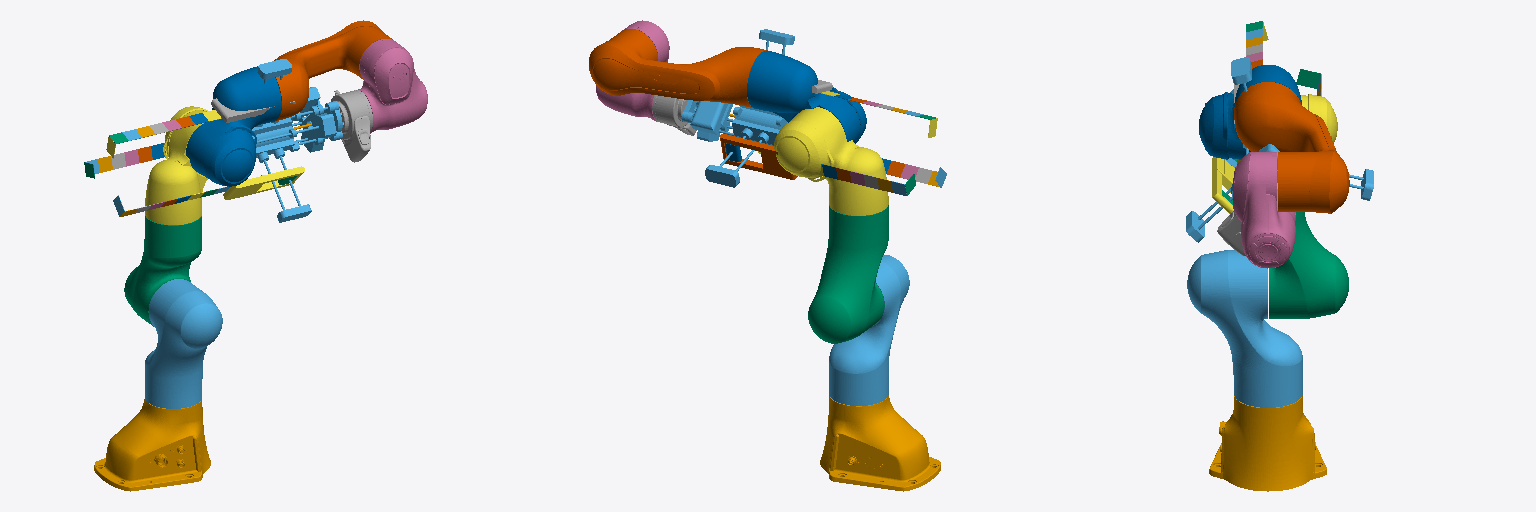
--- What the picture shows (computed from the rendered views, not written in the file) ---
3 views of the same robot in one strip: view 1: azimuth 30°, elevation 25°; view 2: azimuth 150°, elevation 25°; view 3: azimuth 270°, elevation 25° (orthographic).
Robot: panda_and_gripper — 45 links, 44 joints (34 revolute, 4 prismatic, 6 fixed); root link world; default pose: all joints at 0 but 4 set to mid-range because 0 is outside their limits (panda_joint4 = -1.57, finger_1_prismatic_joint = 0.0915, finger_2_prismatic_joint = 0.0915, finger_3_prismatic_joint = 0.0915).
Visible links, largest first — view 1: panda_link0, panda_link1, panda_link4, panda_link6, gripper_base_link, panda_link5, panda_link2, panda_link3, panda_link7, finger_1, finger_3; view 2: panda_link0, panda_link5, panda_link2, panda_link3, panda_link1, panda_link4, gripper_base_link, panda_link6, finger_2, panda_link7; view 3: panda_link1, panda_link5, panda_link0, panda_link2, panda_link6, panda_link4, gripper_base_link, finger_1, panda_link3, panda_link7.
Link boxes in pixels (x1,y1,x2,y2): panda_link0: (94,399,210,491); panda_link1: (145,279,222,408); panda_link4: (186,66,281,186); panda_link6: (358,39,427,133); gripper_base_link: (252,59,342,222); panda_link5: (274,20,392,121); panda_link2: (124,216,201,326); panda_link3: (145,106,207,224); panda_link7: (331,90,372,162); finger_1: (223,166,304,199); finger_3: (211,98,295,122); panda_link0: (820,395,940,491); panda_link5: (589,29,767,107); panda_link2: (808,205,888,343); panda_link3: (774,107,888,215); panda_link1: (829,255,909,405); panda_link4: (747,51,866,143); gripper_base_link: (681,29,794,187); panda_link6: (596,20,669,121); finger_2: (720,134,797,179); panda_link7: (652,95,696,135); panda_link1: (1187,250,1302,407); panda_link5: (1234,82,1349,213); panda_link0: (1209,395,1326,491); panda_link2: (1269,212,1348,318); panda_link6: (1233,152,1295,268); panda_link4: (1199,65,1301,159); gripper_base_link: (1186,57,1373,242); finger_1: (1212,157,1234,213); panda_link3: (1237,94,1337,163); panda_link7: (1217,183,1295,255).
Bounding box of the posed robot: 0.7022 × 0.301 × 0.8128 m (x, y, z).
Meshes: 12 distinct files referenced, 16 mesh visuals loaded (12 binary STL).

The robot description file, URDF, robot "panda_and_gripper":
<?xml version="1.0" ?>
<!-- =================================================================================== -->
<!-- |    This document was autogenerated by xacro from panda_and_gripper.urdf.xacro   | -->
<!-- |    EDITING THIS FILE BY HAND IS NOT RECOMMENDED                                 | -->
<!-- =================================================================================== -->
<robot name="panda_and_gripper">
  <!-- <link name="world" />
    <xacro:unless value="${not connected_to}">
      <joint name="virtual_joint" type="fixed">
        <parent link="${connected_to}"/>
        <child link="${arm_id}_link0"/>
        <origin rpy="${rpy}" xyz="${xyz}"/>
        <dynamics damping="1.0"/>
      </joint>
    </xacro:unless> -->
  <!-- PARAMETERS TO SET BY HAND -->
  <!-- END OF PARAMETERS TO SET BY HAND -->
  <!-- original working mesh links -->
  <!--    <xacro:arm_link number="0" visual_mesh="package://${mesh_folder}/visual/link0.dae"-->
  <!--      collision_mesh="package://${mesh_folder}/collision/link0.stl" mass="3.06"/>-->
  <!--    <xacro:arm_link number="1" visual_mesh="package://${mesh_folder}/visual/link1.dae"-->
  <!--      collision_mesh="package://${mesh_folder}/collision/link1.stl" mass="2.34"/>-->
  <!--    <xacro:arm_link number="2" visual_mesh="package://${mesh_folder}/visual/link2.dae"-->
  <!--      collision_mesh="package://${mesh_folder}/collision/link2.stl" mass="2.36"/>-->
  <!--    <xacro:arm_link number="3" visual_mesh="package://${mesh_folder}/visual/link3.dae"-->
  <!--      collision_mesh="package://${mesh_folder}/collision/link3.stl" mass="2.38"/>-->
  <!--    <xacro:arm_link number="4" visual_mesh="package://${mesh_folder}/visual/link4.dae"-->
  <!--      collision_mesh="package://${mesh_folder}/collision/link4.stl" mass="2.43"/>-->
  <!--    <xacro:arm_link number="5" visual_mesh="package://${mesh_folder}/visual/link5.dae"-->
  <!--      collision_mesh="package://${mesh_folder}/collision/link5.stl" mass="3.5"/>-->
  <!--    <xacro:arm_link number="6" visual_mesh="package://${mesh_folder}/visual/link6.dae"-->
  <!--      collision_mesh="package://${mesh_folder}/collision/link6.stl" mass="1.47"/>-->
  <!--    <xacro:arm_link number="7" visual_mesh="package://${mesh_folder}/visual/link7.dae"-->
  <!--      collision_mesh="package://${mesh_folder}/collision/link7.stl" mass="0.45"/>-->
  <!--     <xacro:arm_link number="8"/>-->
  <link name="panda_link0">
    <visual>
      <geometry>
        <mesh filename="package://gripper_description/meshes_panda/panda visual link0.stl"/>
      </geometry>
    </visual>
    <collision>
      <geometry>
        <mesh filename="package://gripper_description/meshes_panda/panda collision link0.stl"/>
      </geometry>
    </collision>
    <inertial>
      <origin rpy="0 0 0" xyz="0 0 0"/>
      <mass value="3.06"/>
      <inertia ixx="0.3" ixy="0.0" ixz="0.0" iyy="0.3" iyz="0.0" izz="0.3"/>
    </inertial>
  </link>
  <link name="panda_link1">
    <visual>
      <geometry>
        <mesh filename="package://gripper_description/meshes_panda/panda visual link1.stl"/>
      </geometry>
    </visual>
    <collision>
      <geometry>
        <mesh filename="package://gripper_description/meshes_panda/panda collision link1.stl"/>
      </geometry>
    </collision>
    <inertial>
      <origin rpy="0 0 0" xyz="0 0 0"/>
      <mass value="2.34"/>
      <inertia ixx="7.0337e-01" ixy="-1.3900e-04" ixz="6.7720e-03" iyy="7.0661e-01" iyz="1.9169e-02" izz="9.1170e-03"/>
    </inertial>
  </link>
  <link name="panda_link2">
    <visual>
      <geometry>
        <mesh filename="package://gripper_description/meshes_panda/panda visual link2.stl"/>
      </geometry>
    </visual>
    <collision>
      <geometry>
        <mesh filename="package://gripper_description/meshes_panda/panda collision link2.stl"/>
      </geometry>
    </collision>
    <inertial>
      <origin rpy="0 0 0" xyz="0 0 0"/>
      <mass value="2.36"/>
      <inertia ixx="7.9620e-03" ixy="-3.9250e-03" ixz="1.0254e-02" iyy="2.8110e-02" iyz="7.0400e-04" izz="2.5995e-02"/>
    </inertial>
  </link>
  <link name="panda_link3">
    <visual>
      <geometry>
        <mesh filename="package://gripper_description/meshes_panda/panda visual link3.stl"/>
      </geometry>
    </visual>
    <collision>
      <geometry>
        <mesh filename="package://gripper_description/meshes_panda/panda collision link3.stl"/>
      </geometry>
    </collision>
    <inertial>
      <origin rpy="0 0 0" xyz="0 0 0"/>
      <mass value="2.38"/>
      <inertia ixx="3.7242e-02" ixy="-4.7610e-03" ixz="-1.1396e-02" iyy="3.6155e-02" iyz="-1.2805e-02" izz="1.0830e-02"/>
    </inertial>
  </link>
  <link name="panda_link4">
    <visual>
      <geometry>
        <mesh filename="package://gripper_description/meshes_panda/panda visual link4.stl"/>
      </geometry>
    </visual>
    <collision>
      <geometry>
        <mesh filename="package://gripper_description/meshes_panda/panda collision link4.stl"/>
      </geometry>
    </collision>
    <inertial>
      <origin rpy="0 0 0" xyz="0 0 0"/>
      <mass value="2.43"/>
      <inertia ixx="2.5853e-02" ixy="7.7960e-03" ixz="-1.3320e-03" iyy="1.9552e-02" iyz="8.6410e-03" izz="2.8323e-02"/>
    </inertial>
  </link>
  <link name="panda_link5">
    <visual>
      <geometry>
        <mesh filename="package://gripper_description/meshes_panda/panda visual link5.stl"/>
      </geometry>
    </visual>
    <collision>
      <geometry>
        <mesh filename="package://gripper_description/meshes_panda/panda collision link5.stl"/>
      </geometry>
    </collision>
    <inertial>
      <origin rpy="0 0 0" xyz="0 0 0"/>
      <mass value="3.5"/>
      <inertia ixx="3.5549e-02" ixy="-2.1170e-03" ixz="-4.0370e-03" iyy="2.9474e-02" iyz="2.2900e-04" izz="8.6270e-03"/>
    </inertial>
  </link>
  <link name="panda_link6">
    <visual>
      <geometry>
        <mesh filename="package://gripper_description/meshes_panda/panda visual link6.stl"/>
      </geometry>
    </visual>
    <collision>
      <geometry>
        <mesh filename="package://gripper_description/meshes_panda/panda collision link6.stl"/>
      </geometry>
    </collision>
    <inertial>
      <origin rpy="0 0 0" xyz="0 0 0"/>
      <mass value="1.47"/>
      <inertia ixx="1.9640e-03" ixy="1.0900e-04" ixz="-1.1580e-03" iyy="4.3540e-03" iyz="3.4100e-04" izz="5.4330e-03"/>
    </inertial>
  </link>
  <link name="panda_link7">
    <visual>
      <geometry>
        <mesh filename="package://gripper_description/meshes_panda/panda visual link7.stl"/>
      </geometry>
    </visual>
    <collision>
      <geometry>
        <mesh filename="package://gripper_description/meshes_panda/panda collision link7.stl"/>
      </geometry>
    </collision>
    <inertial>
      <origin rpy="0 0 0" xyz="0 0 0"/>
      <mass value="0.45"/>
      <inertia ixx="1.2516e-02" ixy="-4.2800e-04" ixz="-1.1960e-03" iyy="1.0027e-02" iyz="-7.4100e-04" izz="4.8150e-03"/>
    </inertial>
  </link>
  <link name="panda_link8">
    <inertial>
      <origin rpy="0 0 0" xyz="0 0 0"/>
      <mass value="0.0"/>
      <inertia ixx="1e-4" ixy="0.0" ixz="0.0" iyy="1e-4" iyz="0.0" izz="1e-4"/>
    </inertial>
  </link>
  <!-- joint6 limit lower = -0.0175 -->
  <joint name="panda_joint1" type="revolute">
    <safety_controller k_position="100.0" k_velocity="40.0" soft_lower_limit="-2.8973" soft_upper_limit="2.8973"/>
    <origin rpy="0 0 0" xyz="0 0 0.333"/>
    <parent link="panda_link0"/>
    <child link="panda_link1"/>
    <limit effort="87" lower="-2.8973" upper="2.8973" velocity="2.175"/>
    <axis xyz="0 0 1"/>
    <dynamics damping="1.0" friction="0.1"/>
  </joint>
  <joint name="panda_joint2" type="revolute">
    <safety_controller k_position="100.0" k_velocity="40.0" soft_lower_limit="-1.7628" soft_upper_limit="1.7628"/>
    <origin rpy="-1.5707963267948966 0 0" xyz="0 0 0"/>
    <parent link="panda_link1"/>
    <child link="panda_link2"/>
    <limit effort="87" lower="-1.7628" upper="1.7628" velocity="2.175"/>
    <axis xyz="0 0 1"/>
    <dynamics damping="1.0" friction="0.1"/>
  </joint>
  <joint name="panda_joint3" type="revolute">
    <safety_controller k_position="100.0" k_velocity="40.0" soft_lower_limit="-2.8973" soft_upper_limit="2.8973"/>
    <origin rpy="1.5707963267948966 0 0" xyz="0 -0.316 0"/>
    <parent link="panda_link2"/>
    <child link="panda_link3"/>
    <limit effort="87" lower="-2.8973" upper="2.8973" velocity="2.175"/>
    <axis xyz="0 0 1"/>
    <dynamics damping="1.0" friction="0.1"/>
  </joint>
  <joint name="panda_joint4" type="revolute">
    <safety_controller k_position="100.0" k_velocity="40.0" soft_lower_limit="-3.0718" soft_upper_limit="-0.0698"/>
    <origin rpy="1.5707963267948966 0 0" xyz="0.0825 0 0"/>
    <parent link="panda_link3"/>
    <child link="panda_link4"/>
    <limit effort="87" lower="-3.0718" upper="-0.0698" velocity="2.175"/>
    <axis xyz="0 0 1"/>
    <dynamics damping="1.0" friction="0.1"/>
  </joint>
  <joint name="panda_joint5" type="revolute">
    <safety_controller k_position="100.0" k_velocity="40.0" soft_lower_limit="-2.8973" soft_upper_limit="2.8973"/>
    <origin rpy="-1.5707963267948966 0 0" xyz="-0.0825 0.384 0"/>
    <parent link="panda_link4"/>
    <child link="panda_link5"/>
    <limit effort="12" lower="-2.8973" upper="2.8973" velocity="2.61"/>
    <axis xyz="0 0 1"/>
    <dynamics damping="1.0" friction="0.1"/>
  </joint>
  <joint name="panda_joint6" type="revolute">
    <safety_controller k_position="100.0" k_velocity="40.0" soft_lower_limit="-0.0175" soft_upper_limit="3.7525"/>
    <origin rpy="1.5707963267948966 0 0" xyz="0 0 0"/>
    <parent link="panda_link5"/>
    <child link="panda_link6"/>
    <limit effort="12" lower="-0.0175" upper="3.7525" velocity="2.61"/>
    <axis xyz="0 0 1"/>
    <dynamics damping="1.0" friction="0.1"/>
  </joint>
  <joint name="panda_joint7" type="revolute">
    <safety_controller k_position="100.0" k_velocity="40.0" soft_lower_limit="-2.8973" soft_upper_limit="2.8973"/>
    <origin rpy="1.5707963267948966 0 0" xyz="0.088 0 0"/>
    <parent link="panda_link6"/>
    <child link="panda_link7"/>
    <limit effort="12" lower="-2.8973" upper="2.8973" velocity="2.61"/>
    <axis xyz="0 0 1"/>
    <dynamics damping="1.0" friction="0.1"/>
  </joint>
  <joint name="panda_joint8" type="fixed">
    <origin rpy="0 0 0" xyz="0 0 0.107"/>
    <parent link="panda_link7"/>
    <child link="panda_link8"/>
    <axis xyz="0 0 0"/>
    <dynamics damping="1.0" friction="0.1"/>
  </joint>
  <gazebo reference="panda_link0">
    <material>Gazebo/White</material>
    <mu1>0.2</mu1>
    <mu2>0.2</mu2>
  </gazebo>
  <gazebo reference="panda_link1">
    <material>Gazebo/White</material>
    <mu1>0.2</mu1>
    <mu2>0.2</mu2>
  </gazebo>
  <gazebo reference="panda_link2">
    <material>Gazebo/White</material>
    <mu1>0.2</mu1>
    <mu2>0.2</mu2>
  </gazebo>
  <gazebo reference="panda_link3">
    <material>Gazebo/White</material>
    <mu1>0.2</mu1>
    <mu2>0.2</mu2>
  </gazebo>
  <gazebo reference="panda_link4">
    <material>Gazebo/White</material>
    <mu1>0.2</mu1>
    <mu2>0.2</mu2>
  </gazebo>
  <gazebo reference="panda_link5">
    <material>Gazebo/White</material>
    <mu1>0.2</mu1>
    <mu2>0.2</mu2>
  </gazebo>
  <gazebo reference="panda_link6">
    <material>Gazebo/White</material>
    <mu1>0.2</mu1>
    <mu2>0.2</mu2>
  </gazebo>
  <gazebo reference="gripper_base_link">
    <material>Gazebo/Grey</material>
    <mu1>0.2</mu1>
    <mu2>0.2</mu2>
  </gazebo>
  <gazebo reference="finger_1_intermediate">
    <material>Gazebo/Grey</material>
    <mu1>0.2</mu1>
    <mu2>0.2</mu2>
  </gazebo>
  <gazebo reference="finger_1">
    <material>Gazebo/Grey</material>
    <mu1>0.2</mu1>
    <mu2>0.2</mu2>
  </gazebo>
  <gazebo reference="finger_2_intermediate">
    <material>Gazebo/Grey</material>
    <mu1>0.2</mu1>
    <mu2>0.2</mu2>
  </gazebo>
  <gazebo reference="finger_2">
    <material>Gazebo/Grey</material>
    <mu1>0.2</mu1>
    <mu2>0.2</mu2>
  </gazebo>
  <gazebo reference="finger_3_intermediate">
    <material>Gazebo/Grey</material>
    <mu1>0.2</mu1>
    <mu2>0.2</mu2>
  </gazebo>
  <gazebo reference="finger_3">
    <material>Gazebo/Grey</material>
    <mu1>0.2</mu1>
    <mu2>0.2</mu2>
  </gazebo>
  <gazebo reference="palm">
    <material>Gazebo/Grey</material>
    <mu1>0.2</mu1>
    <mu2>0.2</mu2>
  </gazebo>
  <transmission name="panda_tran_1">
    <type>transmission_interface/SimpleTransmission</type>
    <joint name="panda_joint1">
      <!-- <hardwareInterface>hardware_interface/EffortJointInterface</hardwareInterface> -->
      <hardwareInterface>hardware_interface/PositionJointInterface</hardwareInterface>
    </joint>
    <actuator name="panda_motor_1">
      <!-- <hardwareInterface>hardware_interface/EffortJointInterface</hardwareInterface> -->
      <hardwareInterface>hardware_interface/PositionJointInterface</hardwareInterface>
      <mechanicalReduction>1</mechanicalReduction>
    </actuator>
  </transmission>
  <transmission name="panda_tran_2">
    <type>transmission_interface/SimpleTransmission</type>
    <joint name="panda_joint2">
      <!-- <hardwareInterface>hardware_interface/EffortJointInterface</hardwareInterface> -->
      <hardwareInterface>hardware_interface/PositionJointInterface</hardwareInterface>
    </joint>
    <actuator name="panda_motor_2">
      <!-- <hardwareInterface>hardware_interface/EffortJointInterface</hardwareInterface> -->
      <hardwareInterface>hardware_interface/PositionJointInterface</hardwareInterface>
      <mechanicalReduction>1</mechanicalReduction>
    </actuator>
  </transmission>
  <transmission name="panda_tran_3">
    <type>transmission_interface/SimpleTransmission</type>
    <joint name="panda_joint3">
      <!-- <hardwareInterface>hardware_interface/EffortJointInterface</hardwareInterface> -->
      <hardwareInterface>hardware_interface/PositionJointInterface</hardwareInterface>
    </joint>
    <actuator name="panda_motor_3">
      <!-- <hardwareInterface>hardware_interface/EffortJointInterface</hardwareInterface> -->
      <hardwareInterface>hardware_interface/PositionJointInterface</hardwareInterface>
      <mechanicalReduction>1</mechanicalReduction>
    </actuator>
  </transmission>
  <transmission name="panda_tran_4">
    <type>transmission_interface/SimpleTransmission</type>
    <joint name="panda_joint4">
      <!-- <hardwareInterface>hardware_interface/EffortJointInterface</hardwareInterface> -->
      <hardwareInterface>hardware_interface/PositionJointInterface</hardwareInterface>
    </joint>
    <actuator name="panda_motor_4">
      <!-- <hardwareInterface>hardware_interface/EffortJointInterface</hardwareInterface> -->
      <hardwareInterface>hardware_interface/PositionJointInterface</hardwareInterface>
      <mechanicalReduction>1</mechanicalReduction>
    </actuator>
  </transmission>
  <transmission name="panda_tran_5">
    <type>transmission_interface/SimpleTransmission</type>
    <joint name="panda_joint5">
      <!-- <hardwareInterface>hardware_interface/EffortJointInterface</hardwareInterface> -->
      <hardwareInterface>hardware_interface/PositionJointInterface</hardwareInterface>
    </joint>
    <actuator name="panda_motor_5">
      <!-- <hardwareInterface>hardware_interface/EffortJointInterface</hardwareInterface> -->
      <hardwareInterface>hardware_interface/PositionJointInterface</hardwareInterface>
      <mechanicalReduction>1</mechanicalReduction>
    </actuator>
  </transmission>
  <transmission name="panda_tran_6">
    <type>transmission_interface/SimpleTransmission</type>
    <joint name="panda_joint6">
      <!-- <hardwareInterface>hardware_interface/EffortJointInterface</hardwareInterface> -->
      <hardwareInterface>hardware_interface/PositionJointInterface</hardwareInterface>
    </joint>
    <actuator name="panda_motor_6">
      <!-- <hardwareInterface>hardware_interface/EffortJointInterface</hardwareInterface> -->
      <hardwareInterface>hardware_interface/PositionJointInterface</hardwareInterface>
      <mechanicalReduction>1</mechanicalReduction>
    </actuator>
  </transmission>
  <transmission name="panda_tran_7">
    <type>transmission_interface/SimpleTransmission</type>
    <joint name="panda_joint7">
      <!-- <hardwareInterface>hardware_interface/EffortJointInterface</hardwareInterface> -->
      <hardwareInterface>hardware_interface/PositionJointInterface</hardwareInterface>
    </joint>
    <actuator name="panda_motor_7">
      <!-- <hardwareInterface>hardware_interface/EffortJointInterface</hardwareInterface> -->
      <hardwareInterface>hardware_interface/PositionJointInterface</hardwareInterface>
      <mechanicalReduction>1</mechanicalReduction>
    </actuator>
  </transmission>
  <transmission name="panda_tran_8">
    <type>transmission_interface/SimpleTransmission</type>
    <joint name="finger_1_revolute_joint">
      <!-- <hardwareInterface>hardware_interface/EffortJointInterface</hardwareInterface> -->
      <hardwareInterface>hardware_interface/PositionJointInterface</hardwareInterface>
    </joint>
    <actuator name="panda_motor_8">
      <!-- <hardwareInterface>hardware_interface/EffortJointInterface</hardwareInterface> -->
      <hardwareInterface>hardware_interface/PositionJointInterface</hardwareInterface>
      <mechanicalReduction>1</mechanicalReduction>
    </actuator>
  </transmission>
  <transmission name="panda_tran_9">
    <type>transmission_interface/SimpleTransmission</type>
    <joint name="finger_1_prismatic_joint">
      <!-- <hardwareInterface>hardware_interface/EffortJointInterface</hardwareInterface> -->
      <hardwareInterface>hardware_interface/PositionJointInterface</hardwareInterface>
    </joint>
    <actuator name="panda_motor_9">
      <!-- <hardwareInterface>hardware_interface/EffortJointInterface</hardwareInterface> -->
      <hardwareInterface>hardware_interface/PositionJointInterface</hardwareInterface>
      <mechanicalReduction>1</mechanicalReduction>
    </actuator>
  </transmission>
  <transmission name="panda_tran_10">
    <type>transmission_interface/SimpleTransmission</type>
    <joint name="finger_2_revolute_joint">
      <!-- <hardwareInterface>hardware_interface/EffortJointInterface</hardwareInterface> -->
      <hardwareInterface>hardware_interface/PositionJointInterface</hardwareInterface>
    </joint>
    <actuator name="panda_motor_10">
      <!-- <hardwareInterface>hardware_interface/EffortJointInterface</hardwareInterface> -->
      <hardwareInterface>hardware_interface/PositionJointInterface</hardwareInterface>
      <mechanicalReduction>1</mechanicalReduction>
    </actuator>
  </transmission>
  <transmission name="panda_tran_11">
    <type>transmission_interface/SimpleTransmission</type>
    <joint name="finger_2_prismatic_joint">
      <!-- <hardwareInterface>hardware_interface/EffortJointInterface</hardwareInterface> -->
      <hardwareInterface>hardware_interface/PositionJointInterface</hardwareInterface>
    </joint>
    <actuator name="panda_motor_11">
      <!-- <hardwareInterface>hardware_interface/EffortJointInterface</hardwareInterface> -->
      <hardwareInterface>hardware_interface/PositionJointInterface</hardwareInterface>
      <mechanicalReduction>1</mechanicalReduction>
    </actuator>
  </transmission>
  <transmission name="panda_tran_12">
    <type>transmission_interface/SimpleTransmission</type>
    <joint name="finger_3_revolute_joint">
      <!-- <hardwareInterface>hardware_interface/EffortJointInterface</hardwareInterface> -->
      <hardwareInterface>hardware_interface/PositionJointInterface</hardwareInterface>
    </joint>
    <actuator name="panda_motor_12">
      <!-- <hardwareInterface>hardware_interface/EffortJointInterface</hardwareInterface> -->
      <hardwareInterface>hardware_interface/PositionJointInterface</hardwareInterface>
      <mechanicalReduction>1</mechanicalReduction>
    </actuator>
  </transmission>
  <transmission name="panda_tran_13">
    <type>transmission_interface/SimpleTransmission</type>
    <joint name="finger_3_prismatic_joint">
      <!-- <hardwareInterface>hardware_interface/EffortJointInterface</hardwareInterface> -->
      <hardwareInterface>hardware_interface/PositionJointInterface</hardwareInterface>
    </joint>
    <actuator name="panda_motor_13">
      <!-- <hardwareInterface>hardware_interface/EffortJointInterface</hardwareInterface> -->
      <hardwareInterface>hardware_interface/PositionJointInterface</hardwareInterface>
      <mechanicalReduction>1</mechanicalReduction>
    </actuator>
  </transmission>
  <transmission name="panda_tran_14">
    <type>transmission_interface/SimpleTransmission</type>
    <joint name="palm_prismatic_joint">
      <!-- <hardwareInterface>hardware_interface/EffortJointInterface</hardwareInterface> -->
      <hardwareInterface>hardware_interface/PositionJointInterface</hardwareInterface>
    </joint>
    <actuator name="panda_motor_14">
      <!-- <hardwareInterface>hardware_interface/EffortJointInterface</hardwareInterface> -->
      <hardwareInterface>hardware_interface/PositionJointInterface</hardwareInterface>
      <mechanicalReduction>1</mechanicalReduction>
    </actuator>
  </transmission>
  <gazebo>
    <plugin filename="libgazebo_ros_control.so" name="gazebo_ros_control">
      <!--            	<robotNamespace>/gripper_controller</robotNamespace>-->
    </plugin>
  </gazebo>
  <!-- PARAMETERS TO BE SET BY HAND -->
  <!-- END OF PARAMETERS TO BE SET BY HAND -->
  <!-- PARAMETERS TO BE SET BY HAND -->
  <!-- END OF PARAMETER TO BE SET BY HAND -->
  <!-- BASE LINK -->
  <link name="gripper_base_link">
    <inertial>
      <mass value="1.5"/>
      <origin rpy="3.141592653589793 0 0" xyz="0 0 0.025"/>
      <inertia ixx="9.95e-3" ixy="2.73e-6" ixz="-14.32e-6" iyy="10.08e-3" iyz="121.38e-6" izz="5.13e-3"/>
    </inertial>
    <visual>
      <geometry>
        <mesh filename="package://gripper_description/meshes/main body visual.STL"/>
      </geometry>
    </visual>
    <collision>
      <geometry>
        <!--          <mesh filename="package://gripper_description/meshes/main body collision.STL"/>-->
        <cylinder length="0.1" radius="0.03"/>
      </geometry>
    </collision>
  </link>
  <!-- Intermediate link for prismatic joint -->
  <link name="finger_1_intermediate">
    <inertial>
      <mass value="0.1"/>
      <origin rpy="0 0 0" xyz="0 0 0"/>
      <inertia ixx="55.59e-6" ixy="-47.23e-6" ixz="1.16e-6" iyy="146.36e-6" iyz="1.00e-6" izz="154.18e-6"/>
    </inertial>
    <visual>
      <geometry>
        <mesh filename="package://gripper_description/meshes/nut visual.STL"/>
      </geometry>
    </visual>
    <collision>
      <geometry>
        <mesh filename="package://gripper_description/meshes/nut collision.STL"/>
      </geometry>
    </collision>
  </link>
  <!-- Main finger link -->
  <link name="finger_1">
    <inertial>
      <mass value="0.1"/>
      <origin rpy="0 0 0" xyz="0 0 0"/>
      <inertia ixx="55.59e-6" ixy="-47.23e-6" ixz="1.16e-6" iyy="146.36e-6" iyz="1.00e-6" izz="154.18e-6"/>
    </inertial>
    <visual>
      <geometry>
        <mesh filename="package://gripper_description/meshes/platform only visual.STL"/>
      </geometry>
    </visual>
    <collision>
      <geometry>
        <mesh filename="package://gripper_description/meshes/platform only collision.STL"/>
      </geometry>
    </collision>
  </link>
  <joint name="finger_1_prismatic_joint" type="prismatic">
    <axis rpy="0 0 0" xyz="0 1 0"/>
    <parent link="gripper_base_link"/>
    <child link="finger_1_intermediate"/>
    <origin rpy="4.71238898038469                    4.71238898038469                    1.5707963267948966" xyz="0.0                    0.0                    0"/>
    <limit effort="40.0" lower="0.049" upper="0.134" velocity="0.015"/>
    <dynamics damping="1.0"/>
  </joint>
  <joint name="finger_1_revolute_joint" type="revolute">
    <axis rpy="0 0 0" xyz="0 0 1"/>
    <parent link="finger_1_intermediate"/>
    <child link="finger_1"/>
    <origin rpy="0 0 0.0" xyz="0 0 0"/>
    <limit effort="40.0" lower="-0.7" upper="0.7" velocity="0.1"/>
    <dynamics damping="1.0"/>
  </joint>
  <!-- Intermediate link for prismatic joint -->
  <link name="finger_2_intermediate">
    <inertial>
      <mass value="0.1"/>
      <origin rpy="0 0 0" xyz="0 0 0"/>
      <inertia ixx="55.59e-6" ixy="-47.23e-6" ixz="1.16e-6" iyy="146.36e-6" iyz="1.00e-6" izz="154.18e-6"/>
    </inertial>
    <visual>
      <geometry>
        <mesh filename="package://gripper_description/meshes/nut visual.STL"/>
      </geometry>
    </visual>
    <collision>
      <geometry>
        <mesh filename="package://gripper_description/meshes/nut collision.STL"/>
      </geometry>
    </collision>
  </link>
  <!-- Main finger link -->
  <link name="finger_2">
    <inertial>
      <mass value="0.1"/>
      <origin rpy="0 0 0" xyz="0 0 0"/>
      <inertia ixx="55.59e-6" ixy="-47.23e-6" ixz="1.16e-6" iyy="146.36e-6" iyz="1.00e-6" izz="154.18e-6"/>
    </inertial>
    <visual>
      <geometry>
        <mesh filename="package://gripper_description/meshes/platform only visual.STL"/>
      </geometry>
    </visual>
    <collision>
      <geometry>
        <mesh filename="package://gripper_description/meshes/platform only collision.STL"/>
      </geometry>
    </collision>
  </link>
  <joint name="finger_2_prismatic_joint" type="prismatic">
    <axis rpy="0 0 0" xyz="0 1 0"/>
    <parent link="gripper_base_link"/>
    <child link="finger_2_intermediate"/>
    <origin rpy="4.71238898038469                    4.71238898038469                    -0.5235987755982987" xyz="0.0                    -0.0                    0"/>
    <limit effort="40.0" lower="0.049" upper="0.134" velocity="0.015"/>
    <dynamics damping="1.0"/>
  </joint>
  <joint name="finger_2_revolute_joint" type="revolute">
    <axis rpy="0 0 0" xyz="0 0 1"/>
    <parent link="finger_2_intermediate"/>
    <child link="finger_2"/>
    <origin rpy="0 0 0.0" xyz="0 0 0"/>
    <limit effort="40.0" lower="-0.7" upper="0.7" velocity="0.1"/>
    <dynamics damping="1.0"/>
  </joint>
  <!-- Intermediate link for prismatic joint -->
  <link name="finger_3_intermediate">
    <inertial>
      <mass value="0.1"/>
      <origin rpy="0 0 0" xyz="0 0 0"/>
      <inertia ixx="55.59e-6" ixy="-47.23e-6" ixz="1.16e-6" iyy="146.36e-6" iyz="1.00e-6" izz="154.18e-6"/>
    </inertial>
    <visual>
      <geometry>
        <mesh filename="package://gripper_description/meshes/nut visual.STL"/>
      </geometry>
    </visual>
    <collision>
      <geometry>
        <mesh filename="package://gripper_description/meshes/nut collision.STL"/>
      </geometry>
    </collision>
  </link>
  <!-- Main finger link -->
  <link name="finger_3">
    <inertial>
      <mass value="0.1"/>
      <origin rpy="0 0 0" xyz="0 0 0"/>
      <inertia ixx="55.59e-6" ixy="-47.23e-6" ixz="1.16e-6" iyy="146.36e-6" iyz="1.00e-6" izz="154.18e-6"/>
    </inertial>
    <visual>
      <geometry>
        <mesh filename="package://gripper_description/meshes/platform only visual.STL"/>
      </geometry>
    </visual>
    <collision>
      <geometry>
        <mesh filename="package://gripper_description/meshes/platform only collision.STL"/>
      </geometry>
    </collision>
  </link>
  <joint name="finger_3_prismatic_joint" type="prismatic">
    <axis rpy="0 0 0" xyz="0 1 0"/>
    <parent link="gripper_base_link"/>
    <child link="finger_3_intermediate"/>
    <origin rpy="4.71238898038469                    4.71238898038469                    -2.617993877991494" xyz="-0.0                    -0.0                    0"/>
    <limit effort="40.0" lower="0.049" upper="0.134" velocity="0.015"/>
    <dynamics damping="1.0"/>
  </joint>
  <joint name="finger_3_revolute_joint" type="revolute">
    <axis rpy="0 0 0" xyz="0 0 1"/>
    <parent link="finger_3_intermediate"/>
    <child link="finger_3"/>
    <origin rpy="0 0 0.0" xyz="0 0 0"/>
    <limit effort="40.0" lower="-0.7" upper="0.7" velocity="0.1"/>
    <dynamics damping="1.0"/>
  </joint>
  <!-- PALM -->
  <link name="palm">
    <inertial>
      <mass value="0.05"/>
      <origin rpy="0 0 0" xyz="0 0 0"/>
      <inertia ixx="10.0e-6" ixy="0.0" ixz="0.0" iyy="10.0e-6" iyz="0.0" izz="10.0e-6"/>
    </inertial>
    <visual>
      <origin rpy="0 0 0" xyz="0 0 0"/>
      <geometry>
        <mesh filename="package://gripper_description/meshes/palm visual.STL"/>
      </geometry>
    </visual>
    <collision>
      <geometry>
        <mesh filename="package://gripper_description/meshes/palm collision.STL"/>
      </geometry>
    </collision>
  </link>
  <joint name="palm_prismatic_joint" type="prismatic">
    <axis rpy="0 0 0" xyz="1 0 0"/>
    <parent link="gripper_base_link"/>
    <child link="palm"/>
    <origin rpy="0 -1.5707963267948966 0" xyz="0 0 0"/>
    <limit effort="40.0" lower="0.0" upper="0.165" velocity="0.036"/>
    <dynamics damping="1.0"/>
  </joint>
  <!-- PARAMETERS TO BE SET BY HAND -->
  <!-- END OF PARAMETERS TO BE SET BY HAND -->
  <joint name="finger_1_segment_joint_0" type="revolute">
    <origin rpy="1.5707963267948966 0 0" xyz="0.129 -0.007 0"/>
    <parent link="finger_1"/>
    <child link="finger_1_segment_link_1"/>
    <axis rpy="0 0 0" xyz="0 1 0"/>
    <limit effort="1000.0" lower="-1.0" upper="1.0" velocity="1.0"/>
    <dynamics damping="0.01" friction="0.0"/>
  </joint>
  <!-- END TESTING OF BASE JOINT (rather than fixed) -->
  <link name="finger_1_segment_link_1">
    <inertial>
      <mass value="0.008159722222222221"/>
      <inertia ixx="5.336526331018518e-07" ixy="0.00" ixz="0.00" iyy="2.3475333839699066e-06" iyz="0.00" izz="2.8800844545717586e-06"/>
    </inertial>
    <visual>
      <origin rpy="0 0 0" xyz="0.0146875 0 0"/>
      <geometry>
        <box size="0.029375 0.028 0.0009"/>
      </geometry>
    </visual>
    <collision>
      <origin rpy="0 0 0" xyz="0.0146875 0 0"/>
      <geometry>
        <box size="0.029375 0.028 0.0009"/>
      </geometry>
    </collision>
  </link>
  <gazebo reference="finger_1_segment_link_1">
    <material>Gazebo/Orange</material>
    <mu1>0.1</mu1>
    <mu2>0.1</mu2>
    <maxVel>0.0</maxVel>
    <minDepth>0.001</minDepth>
    <!-- <kp>100</kp>
        <kd>1</kd> -->
  </gazebo>
  <link name="finger_1_segment_link_2">
    <inertial>
      <mass value="0.008159722222222221"/>
      <inertia ixx="5.336526331018518e-07" ixy="0.00" ixz="0.00" iyy="2.3475333839699066e-06" iyz="0.00" izz="2.8800844545717586e-06"/>
    </inertial>
    <visual>
      <origin rpy="0 0 0" xyz="0.0146875 0 0"/>
      <geometry>
        <box size="0.029375 0.028 0.0009"/>
      </geometry>
    </visual>
    <collision>
      <origin rpy="0 0 0" xyz="0.0146875 0 0"/>
      <geometry>
        <box size="0.029375 0.028 0.0009"/>
      </geometry>
    </collision>
  </link>
  <gazebo reference="finger_1_segment_link_2">
    <material>Gazebo/Orange</material>
    <mu1>0.1</mu1>
    <mu2>0.1</mu2>
    <maxVel>0.0</maxVel>
    <minDepth>0.001</minDepth>
    <!-- <kp>100</kp>
        <kd>1</kd> -->
  </gazebo>
  <!-- bending joint -->
  <joint name="finger_1_segment_joint_1" type="revolute">
    <axis rpy="0 0 0" xyz="0 1 0"/>
    <parent link="finger_1_segment_link_1"/>
    <child link="finger_1_segment_link_2"/>
    <origin rpy="0 0 0" xyz="0.029375 0 0"/>
    <limit effort="1000.0" lower="-1.0" upper="1.0" velocity="1.0"/>
    <dynamics damping="0.01" friction="0.0"/>
  </joint>
  <gazebo reference="finger_1_segment_joint_1">
    <provideFeedback>1</provideFeedback>
    <springReference>0.0</springReference>
    <implicitSpringDamper>1</implicitSpringDamper>
    <springStiffness>3.0</springStiffness>
  </gazebo>
  <!-- set transmission for gazebo ROS controllers-->
  <transmission name="finger_1_segment_tran_1">
    <type>transmission_interface/SimpleTransmission</type>
    <joint name="finger_1_segment_joint_1">
      <hardwareInterface>hardware_interface/EffortJointInterface</hardwareInterface>
    </joint>
    <actuator name="finger_1_segment_motor_1">
      <hardwareInterface>hardware_interface/EffortJointInterface</hardwareInterface>
      <mechanicalReduction>1</mechanicalReduction>
    </actuator>
  </transmission>
  <link name="finger_1_segment_link_3">
    <inertial>
      <mass value="0.008159722222222221"/>
      <inertia ixx="5.336526331018518e-07" ixy="0.00" ixz="0.00" iyy="2.3475333839699066e-06" iyz="0.00" izz="2.8800844545717586e-06"/>
    </inertial>
    <visual>
      <origin rpy="0 0 0" xyz="0.0146875 0 0"/>
      <geometry>
        <box size="0.029375 0.028 0.0009"/>
      </geometry>
    </visual>
    <collision>
      <origin rpy="0 0 0" xyz="0.0146875 0 0"/>
      <geometry>
        <box size="0.029375 0.028 0.0009"/>
      </geometry>
    </collision>
  </link>
  <gazebo reference="finger_1_segment_link_3">
    <material>Gazebo/Orange</material>
    <mu1>0.1</mu1>
    <mu2>0.1</mu2>
    <maxVel>0.0</maxVel>
    <minDepth>0.001</minDepth>
    <!-- <kp>100</kp>
        <kd>1</kd> -->
  </gazebo>
  <!-- bending joint -->
  <joint name="finger_1_segment_joint_2" type="revolute">
    <axis rpy="0 0 0" xyz="0 1 0"/>
    <parent link="finger_1_segment_link_2"/>
    <child link="finger_1_segment_link_3"/>
    <origin rpy="0 0 0" xyz="0.029375 0 0"/>
    <limit effort="1000.0" lower="-1.0" upper="1.0" velocity="1.0"/>
    <dynamics damping="0.01" friction="0.0"/>
  </joint>
  <gazebo reference="finger_1_segment_joint_2">
    <provideFeedback>1</provideFeedback>
    <springReference>0.0</springReference>
    <implicitSpringDamper>1</implicitSpringDamper>
    <springStiffness>3.0</springStiffness>
  </gazebo>
  <!-- set transmission for gazebo ROS controllers-->
  <transmission name="finger_1_segment_tran_2">
    <type>transmission_interface/SimpleTransmission</type>
    <joint name="finger_1_segment_joint_2">
      <hardwareInterface>hardware_interface/EffortJointInterface</hardwareInterface>
    </joint>
    <actuator name="finger_1_segment_motor_2">
      <hardwareInterface>hardware_interface/EffortJointInterface</hardwareInterface>
      <mechanicalReduction>1</mechanicalReduction>
    </actuator>
  </transmission>
  <link name="finger_1_segment_link_4">
    <inertial>
      <mass value="0.008159722222222221"/>
      <inertia ixx="5.336526331018518e-07" ixy="0.00" ixz="0.00" iyy="2.3475333839699066e-06" iyz="0.00" izz="2.8800844545717586e-06"/>
    </inertial>
    <visual>
      <origin rpy="0 0 0" xyz="0.0146875 0 0"/>
      <geometry>
        <box size="0.029375 0.028 0.0009"/>
      </geometry>
    </visual>
    <collision>
      <origin rpy="0 0 0" xyz="0.0146875 0 0"/>
      <geometry>
        <box size="0.029375 0.028 0.0009"/>
      </geometry>
    </collision>
  </link>
  <gazebo reference="finger_1_segment_link_4">
    <material>Gazebo/Orange</material>
    <mu1>0.1</mu1>
    <mu2>0.1</mu2>
    <maxVel>0.0</maxVel>
    <minDepth>0.001</minDepth>
    <!-- <kp>100</kp>
        <kd>1</kd> -->
  </gazebo>
  <!-- bending joint -->
  <joint name="finger_1_segment_joint_3" type="revolute">
    <axis rpy="0 0 0" xyz="0 1 0"/>
    <parent link="finger_1_segment_link_3"/>
    <child link="finger_1_segment_link_4"/>
    <origin rpy="0 0 0" xyz="0.029375 0 0"/>
    <limit effort="1000.0" lower="-1.0" upper="1.0" velocity="1.0"/>
    <dynamics damping="0.01" friction="0.0"/>
  </joint>
  <gazebo reference="finger_1_segment_joint_3">
    <provideFeedback>1</provideFeedback>
    <springReference>0.0</springReference>
    <implicitSpringDamper>1</implicitSpringDamper>
    <springStiffness>3.0</springStiffness>
  </gazebo>
  <!-- set transmission for gazebo ROS controllers-->
  <transmission name="finger_1_segment_tran_3">
    <type>transmission_interface/SimpleTransmission</type>
    <joint name="finger_1_segment_joint_3">
      <hardwareInterface>hardware_interface/EffortJointInterface</hardwareInterface>
    </joint>
    <actuator name="finger_1_segment_motor_3">
      <hardwareInterface>hardware_interface/EffortJointInterface</hardwareInterface>
      <mechanicalReduction>1</mechanicalReduction>
    </actuator>
  </transmission>
  <link name="finger_1_segment_link_5">
    <inertial>
      <mass value="0.008159722222222221"/>
      <inertia ixx="5.336526331018518e-07" ixy="0.00" ixz="0.00" iyy="2.3475333839699066e-06" iyz="0.00" izz="2.8800844545717586e-06"/>
    </inertial>
    <visual>
      <origin rpy="0 0 0" xyz="0.0146875 0 0"/>
      <geometry>
        <box size="0.029375 0.028 0.0009"/>
      </geometry>
    </visual>
    <collision>
      <origin rpy="0 0 0" xyz="0.0146875 0 0"/>
      <geometry>
        <box size="0.029375 0.028 0.0009"/>
      </geometry>
    </collision>
  </link>
  <gazebo reference="finger_1_segment_link_5">
    <material>Gazebo/Orange</material>
    <mu1>0.1</mu1>
    <mu2>0.1</mu2>
    <maxVel>0.0</maxVel>
    <minDepth>0.001</minDepth>
    <!-- <kp>100</kp>
        <kd>1</kd> -->
  </gazebo>
  <!-- bending joint -->
  <joint name="finger_1_segment_joint_4" type="revolute">
    <axis rpy="0 0 0" xyz="0 1 0"/>
    <parent link="finger_1_segment_link_4"/>
    <child link="finger_1_segment_link_5"/>
    <origin rpy="0 0 0" xyz="0.029375 0 0"/>
    <limit effort="1000.0" lower="-1.0" upper="1.0" velocity="1.0"/>
    <dynamics damping="0.01" friction="0.0"/>
  </joint>
  <gazebo reference="finger_1_segment_joint_4">
    <provideFeedback>1</provideFeedback>
    <springReference>0.0</springReference>
    <implicitSpringDamper>1</implicitSpringDamper>
    <springStiffness>3.0</springStiffness>
  </gazebo>
  <!-- set transmission for gazebo ROS controllers-->
  <transmission name="finger_1_segment_tran_4">
    <type>transmission_interface/SimpleTransmission</type>
    <joint name="finger_1_segment_joint_4">
      <hardwareInterface>hardware_interface/EffortJointInterface</hardwareInterface>
    </joint>
    <actuator name="finger_1_segment_motor_4">
      <hardwareInterface>hardware_interface/EffortJointInterface</hardwareInterface>
      <mechanicalReduction>1</mechanicalReduction>
    </actuator>
  </transmission>
  <link name="finger_1_segment_link_6">
    <inertial>
      <mass value="0.008159722222222221"/>
      <inertia ixx="5.336526331018518e-07" ixy="0.00" ixz="0.00" iyy="2.3475333839699066e-06" iyz="0.00" izz="2.8800844545717586e-06"/>
    </inertial>
    <visual>
      <origin rpy="0 0 0" xyz="0.0146875 0 0"/>
      <geometry>
        <box size="0.029375 0.028 0.0009"/>
      </geometry>
    </visual>
    <collision>
      <origin rpy="0 0 0" xyz="0.0146875 0 0"/>
      <geometry>
        <box size="0.029375 0.028 0.0009"/>
      </geometry>
    </collision>
  </link>
  <gazebo reference="finger_1_segment_link_6">
    <material>Gazebo/Orange</material>
    <mu1>0.1</mu1>
    <mu2>0.1</mu2>
    <maxVel>0.0</maxVel>
    <minDepth>0.001</minDepth>
    <!-- <kp>100</kp>
        <kd>1</kd> -->
  </gazebo>
  <!-- bending joint -->
  <joint name="finger_1_segment_joint_5" type="revolute">
    <axis rpy="0 0 0" xyz="0 1 0"/>
    <parent link="finger_1_segment_link_5"/>
    <child link="finger_1_segment_link_6"/>
    <origin rpy="0 0 0" xyz="0.029375 0 0"/>
    <limit effort="1000.0" lower="-1.0" upper="1.0" velocity="1.0"/>
    <dynamics damping="0.01" friction="0.0"/>
  </joint>
  <gazebo reference="finger_1_segment_joint_5">
    <provideFeedback>1</provideFeedback>
    <springReference>0.0</springReference>
    <implicitSpringDamper>1</implicitSpringDamper>
    <springStiffness>3.0</springStiffness>
  </gazebo>
  <!-- set transmission for gazebo ROS controllers-->
  <transmission name="finger_1_segment_tran_5">
    <type>transmission_interface/SimpleTransmission</type>
    <joint name="finger_1_segment_joint_5">
      <hardwareInterface>hardware_interface/EffortJointInterface</hardwareInterface>
    </joint>
    <actuator name="finger_1_segment_motor_5">
      <hardwareInterface>hardware_interface/EffortJointInterface</hardwareInterface>
      <mechanicalReduction>1</mechanicalReduction>
    </actuator>
  </transmission>
  <link name="finger_1_segment_link_7">
    <inertial>
      <mass value="0.008159722222222221"/>
      <inertia ixx="5.336526331018518e-07" ixy="0.00" ixz="0.00" iyy="2.3475333839699066e-06" iyz="0.00" izz="2.8800844545717586e-06"/>
    </inertial>
    <visual>
      <origin rpy="0 0 0" xyz="0.0146875 0 0"/>
      <geometry>
        <box size="0.029375 0.028 0.0009"/>
      </geometry>
    </visual>
    <collision>
      <origin rpy="0 0 0" xyz="0.0146875 0 0"/>
      <geometry>
        <box size="0.029375 0.028 0.0009"/>
      </geometry>
    </collision>
  </link>
  <gazebo reference="finger_1_segment_link_7">
    <material>Gazebo/Orange</material>
    <mu1>0.1</mu1>
    <mu2>0.1</mu2>
    <maxVel>0.0</maxVel>
    <minDepth>0.001</minDepth>
    <!-- <kp>100</kp>
        <kd>1</kd> -->
  </gazebo>
  <!-- bending joint -->
  <joint name="finger_1_segment_joint_6" type="revolute">
    <axis rpy="0 0 0" xyz="0 1 0"/>
    <parent link="finger_1_segment_link_6"/>
    <child link="finger_1_segment_link_7"/>
    <origin rpy="0 0 0" xyz="0.029375 0 0"/>
    <limit effort="1000.0" lower="-1.0" upper="1.0" velocity="1.0"/>
    <dynamics damping="0.01" friction="0.0"/>
  </joint>
  <gazebo reference="finger_1_segment_joint_6">
    <provideFeedback>1</provideFeedback>
    <springReference>0.0</springReference>
    <implicitSpringDamper>1</implicitSpringDamper>
    <springStiffness>3.0</springStiffness>
  </gazebo>
  <!-- set transmission for gazebo ROS controllers-->
  <transmission name="finger_1_segment_tran_6">
    <type>transmission_interface/SimpleTransmission</type>
    <joint name="finger_1_segment_joint_6">
      <hardwareInterface>hardware_interface/EffortJointInterface</hardwareInterface>
    </joint>
    <actuator name="finger_1_segment_motor_6">
      <hardwareInterface>hardware_interface/EffortJointInterface</hardwareInterface>
      <mechanicalReduction>1</mechanicalReduction>
    </actuator>
  </transmission>
  <link name="finger_1_segment_link_8">
    <inertial>
      <mass value="0.008159722222222221"/>
      <inertia ixx="5.336526331018518e-07" ixy="0.00" ixz="0.00" iyy="2.3475333839699066e-06" iyz="0.00" izz="2.8800844545717586e-06"/>
    </inertial>
    <visual>
      <origin rpy="0 0 0" xyz="0.0146875 0 0"/>
      <geometry>
        <box size="0.029375 0.028 0.0009"/>
      </geometry>
    </visual>
    <collision>
      <origin rpy="0 0 0" xyz="0.0146875 0 0"/>
      <geometry>
        <box size="0.029375 0.028 0.0009"/>
      </geometry>
    </collision>
  </link>
  <gazebo reference="finger_1_segment_link_8">
    <material>Gazebo/Orange</material>
    <mu1>0.1</mu1>
    <mu2>0.1</mu2>
    <maxVel>0.0</maxVel>
    <minDepth>0.001</minDepth>
    <!-- <kp>100</kp>
        <kd>1</kd> -->
  </gazebo>
  <!-- bending joint -->
  <joint name="finger_1_segment_joint_7" type="revolute">
    <axis rpy="0 0 0" xyz="0 1 0"/>
    <parent link="finger_1_segment_link_7"/>
    <child link="finger_1_segment_link_8"/>
    <origin rpy="0 0 0" xyz="0.029375 0 0"/>
    <limit effort="1000.0" lower="-1.0" upper="1.0" velocity="1.0"/>
    <dynamics damping="0.01" friction="0.0"/>
  </joint>
  <gazebo reference="finger_1_segment_joint_7">
    <provideFeedback>1</provideFeedback>
    <springReference>0.0</springReference>
    <implicitSpringDamper>1</implicitSpringDamper>
    <springStiffness>3.0</springStiffness>
  </gazebo>
  <!-- set transmission for gazebo ROS controllers-->
  <transmission name="finger_1_segment_tran_7">
    <type>transmission_interface/SimpleTransmission</type>
    <joint name="finger_1_segment_joint_7">
      <hardwareInterface>hardware_interface/EffortJointInterface</hardwareInterface>
    </joint>
    <actuator name="finger_1_segment_motor_7">
      <hardwareInterface>hardware_interface/EffortJointInterface</hardwareInterface>
      <mechanicalReduction>1</mechanicalReduction>
    </actuator>
  </transmission>
  <!-- Add the finger hook link -->
  <link name="finger_1_finger_hook_link">
    <inertial>
      <mass value="0.009722222222222222"/>
      <inertia ixx="6.358414351851852e-07" ixy="0.00" ixz="0.00" iyy="3.970563657407408e-06" iyz="0.00" izz="4.605092592592593e-06"/>
    </inertial>
    <visual>
      <origin rpy="0 0 0" xyz="0.0175 0 0"/>
      <geometry>
        <box size="0.035 0.028 0.0009"/>
      </geometry>
    </visual>
    <collision>
      <origin rpy="0 0 0" xyz="0.0175 0 0"/>
      <geometry>
        <box size="0.035 0.028 0.0009"/>
      </geometry>
    </collision>
  </link>
  <gazebo reference="finger_1_finger_hook_link">
    <material>Gazebo/Orange</material>
    <mu1>0.1</mu1>
    <mu2>0.1</mu2>
    <maxVel>0.0</maxVel>
    <minDepth>0.001</minDepth>
    <!-- <kp>100</kp>
        <kd>1</kd> -->
  </gazebo>
  <joint name="finger_1_finger_hook_joint" type="fixed">
    <parent link="finger_1_segment_link_8"/>
    <child link="finger_1_finger_hook_link"/>
    <origin rpy="0 -1.5707963267948502 0" xyz="0.029375 0 0"/>
  </joint>
  <!-- PARAMETERS TO BE SET BY HAND -->
  <!-- END OF PARAMETERS TO BE SET BY HAND -->
  <joint name="finger_2_segment_joint_0" type="revolute">
    <origin rpy="1.5707963267948966 0 0" xyz="0.129 -0.007 0"/>
    <parent link="finger_2"/>
    <child link="finger_2_segment_link_1"/>
    <axis rpy="0 0 0" xyz="0 1 0"/>
    <limit effort="1000.0" lower="-1.0" upper="1.0" velocity="1.0"/>
    <dynamics damping="0.01" friction="0.0"/>
  </joint>
  <!-- END TESTING OF BASE JOINT (rather than fixed) -->
  <link name="finger_2_segment_link_1">
    <inertial>
      <mass value="0.008159722222222221"/>
      <inertia ixx="5.336526331018518e-07" ixy="0.00" ixz="0.00" iyy="2.3475333839699066e-06" iyz="0.00" izz="2.8800844545717586e-06"/>
    </inertial>
    <visual>
      <origin rpy="0 0 0" xyz="0.0146875 0 0"/>
      <geometry>
        <box size="0.029375 0.028 0.0009"/>
      </geometry>
    </visual>
    <collision>
      <origin rpy="0 0 0" xyz="0.0146875 0 0"/>
      <geometry>
        <box size="0.029375 0.028 0.0009"/>
      </geometry>
    </collision>
  </link>
  <gazebo reference="finger_2_segment_link_1">
    <material>Gazebo/Orange</material>
    <mu1>0.1</mu1>
    <mu2>0.1</mu2>
    <maxVel>0.0</maxVel>
    <minDepth>0.001</minDepth>
    <!-- <kp>100</kp>
        <kd>1</kd> -->
  </gazebo>
  <link name="finger_2_segment_link_2">
    <inertial>
      <mass value="0.008159722222222221"/>
      <inertia ixx="5.336526331018518e-07" ixy="0.00" ixz="0.00" iyy="2.3475333839699066e-06" iyz="0.00" izz="2.8800844545717586e-06"/>
    </inertial>
    <visual>
      <origin rpy="0 0 0" xyz="0.0146875 0 0"/>
      <geometry>
        <box size="0.029375 0.028 0.0009"/>
      </geometry>
    </visual>
    <collision>
      <origin rpy="0 0 0" xyz="0.0146875 0 0"/>
      <geometry>
        <box size="0.029375 0.028 0.0009"/>
      </geometry>
    </collision>
  </link>
  <gazebo reference="finger_2_segment_link_2">
    <material>Gazebo/Orange</material>
    <mu1>0.1</mu1>
    <mu2>0.1</mu2>
    <maxVel>0.0</maxVel>
    <minDepth>0.001</minDepth>
    <!-- <kp>100</kp>
        <kd>1</kd> -->
  </gazebo>
  <!-- bending joint -->
  <joint name="finger_2_segment_joint_1" type="revolute">
    <axis rpy="0 0 0" xyz="0 1 0"/>
    <parent link="finger_2_segment_link_1"/>
    <child link="finger_2_segment_link_2"/>
    <origin rpy="0 0 0" xyz="0.029375 0 0"/>
    <limit effort="1000.0" lower="-1.0" upper="1.0" velocity="1.0"/>
    <dynamics damping="0.01" friction="0.0"/>
  </joint>
  <gazebo reference="finger_2_segment_joint_1">
    <provideFeedback>1</provideFeedback>
    <springReference>0.0</springReference>
    <implicitSpringDamper>1</implicitSpringDamper>
    <springStiffness>3.0</springStiffness>
  </gazebo>
  <!-- set transmission for gazebo ROS controllers-->
  <transmission name="finger_2_segment_tran_1">
    <type>transmission_interface/SimpleTransmission</type>
    <joint name="finger_2_segment_joint_1">
      <hardwareInterface>hardware_interface/EffortJointInterface</hardwareInterface>
    </joint>
    <actuator name="finger_2_segment_motor_1">
      <hardwareInterface>hardware_interface/EffortJointInterface</hardwareInterface>
      <mechanicalReduction>1</mechanicalReduction>
    </actuator>
  </transmission>
  <link name="finger_2_segment_link_3">
    <inertial>
      <mass value="0.008159722222222221"/>
      <inertia ixx="5.336526331018518e-07" ixy="0.00" ixz="0.00" iyy="2.3475333839699066e-06" iyz="0.00" izz="2.8800844545717586e-06"/>
    </inertial>
    <visual>
      <origin rpy="0 0 0" xyz="0.0146875 0 0"/>
      <geometry>
        <box size="0.029375 0.028 0.0009"/>
      </geometry>
    </visual>
    <collision>
      <origin rpy="0 0 0" xyz="0.0146875 0 0"/>
      <geometry>
        <box size="0.029375 0.028 0.0009"/>
      </geometry>
    </collision>
  </link>
  <gazebo reference="finger_2_segment_link_3">
    <material>Gazebo/Orange</material>
    <mu1>0.1</mu1>
    <mu2>0.1</mu2>
    <maxVel>0.0</maxVel>
    <minDepth>0.001</minDepth>
    <!-- <kp>100</kp>
        <kd>1</kd> -->
  </gazebo>
  <!-- bending joint -->
  <joint name="finger_2_segment_joint_2" type="revolute">
    <axis rpy="0 0 0" xyz="0 1 0"/>
    <parent link="finger_2_segment_link_2"/>
    <child link="finger_2_segment_link_3"/>
    <origin rpy="0 0 0" xyz="0.029375 0 0"/>
    <limit effort="1000.0" lower="-1.0" upper="1.0" velocity="1.0"/>
    <dynamics damping="0.01" friction="0.0"/>
  </joint>
  <gazebo reference="finger_2_segment_joint_2">
    <provideFeedback>1</provideFeedback>
    <springReference>0.0</springReference>
    <implicitSpringDamper>1</implicitSpringDamper>
    <springStiffness>3.0</springStiffness>
  </gazebo>
  <!-- set transmission for gazebo ROS controllers-->
  <transmission name="finger_2_segment_tran_2">
    <type>transmission_interface/SimpleTransmission</type>
    <joint name="finger_2_segment_joint_2">
      <hardwareInterface>hardware_interface/EffortJointInterface</hardwareInterface>
    </joint>
    <actuator name="finger_2_segment_motor_2">
      <hardwareInterface>hardware_interface/EffortJointInterface</hardwareInterface>
      <mechanicalReduction>1</mechanicalReduction>
    </actuator>
  </transmission>
  <link name="finger_2_segment_link_4">
    <inertial>
      <mass value="0.008159722222222221"/>
      <inertia ixx="5.336526331018518e-07" ixy="0.00" ixz="0.00" iyy="2.3475333839699066e-06" iyz="0.00" izz="2.8800844545717586e-06"/>
    </inertial>
    <visual>
      <origin rpy="0 0 0" xyz="0.0146875 0 0"/>
      <geometry>
        <box size="0.029375 0.028 0.0009"/>
      </geometry>
    </visual>
    <collision>
      <origin rpy="0 0 0" xyz="0.0146875 0 0"/>
      <geometry>
        <box size="0.029375 0.028 0.0009"/>
      </geometry>
    </collision>
  </link>
  <gazebo reference="finger_2_segment_link_4">
    <material>Gazebo/Orange</material>
    <mu1>0.1</mu1>
    <mu2>0.1</mu2>
    <maxVel>0.0</maxVel>
    <minDepth>0.001</minDepth>
    <!-- <kp>100</kp>
        <kd>1</kd> -->
  </gazebo>
  <!-- bending joint -->
  <joint name="finger_2_segment_joint_3" type="revolute">
    <axis rpy="0 0 0" xyz="0 1 0"/>
    <parent link="finger_2_segment_link_3"/>
    <child link="finger_2_segment_link_4"/>
    <origin rpy="0 0 0" xyz="0.029375 0 0"/>
    <limit effort="1000.0" lower="-1.0" upper="1.0" velocity="1.0"/>
    <dynamics damping="0.01" friction="0.0"/>
  </joint>
  <gazebo reference="finger_2_segment_joint_3">
    <provideFeedback>1</provideFeedback>
    <springReference>0.0</springReference>
    <implicitSpringDamper>1</implicitSpringDamper>
    <springStiffness>3.0</springStiffness>
  </gazebo>
  <!-- set transmission for gazebo ROS controllers-->
  <transmission name="finger_2_segment_tran_3">
    <type>transmission_interface/SimpleTransmission</type>
    <joint name="finger_2_segment_joint_3">
      <hardwareInterface>hardware_interface/EffortJointInterface</hardwareInterface>
    </joint>
    <actuator name="finger_2_segment_motor_3">
      <hardwareInterface>hardware_interface/EffortJointInterface</hardwareInterface>
      <mechanicalReduction>1</mechanicalReduction>
    </actuator>
  </transmission>
  <link name="finger_2_segment_link_5">
    <inertial>
      <mass value="0.008159722222222221"/>
      <inertia ixx="5.336526331018518e-07" ixy="0.00" ixz="0.00" iyy="2.3475333839699066e-06" iyz="0.00" izz="2.8800844545717586e-06"/>
    </inertial>
    <visual>
      <origin rpy="0 0 0" xyz="0.0146875 0 0"/>
      <geometry>
        <box size="0.029375 0.028 0.0009"/>
      </geometry>
    </visual>
    <collision>
      <origin rpy="0 0 0" xyz="0.0146875 0 0"/>
      <geometry>
        <box size="0.029375 0.028 0.0009"/>
      </geometry>
    </collision>
  </link>
  <gazebo reference="finger_2_segment_link_5">
    <material>Gazebo/Orange</material>
    <mu1>0.1</mu1>
    <mu2>0.1</mu2>
    <maxVel>0.0</maxVel>
    <minDepth>0.001</minDepth>
    <!-- <kp>100</kp>
        <kd>1</kd> -->
  </gazebo>
  <!-- bending joint -->
  <joint name="finger_2_segment_joint_4" type="revolute">
    <axis rpy="0 0 0" xyz="0 1 0"/>
    <parent link="finger_2_segment_link_4"/>
    <child link="finger_2_segment_link_5"/>
    <origin rpy="0 0 0" xyz="0.029375 0 0"/>
    <limit effort="1000.0" lower="-1.0" upper="1.0" velocity="1.0"/>
    <dynamics damping="0.01" friction="0.0"/>
  </joint>
  <gazebo reference="finger_2_segment_joint_4">
    <provideFeedback>1</provideFeedback>
    <springReference>0.0</springReference>
    <implicitSpringDamper>1</implicitSpringDamper>
    <springStiffness>3.0</springStiffness>
  </gazebo>
  <!-- set transmission for gazebo ROS controllers-->
  <transmission name="finger_2_segment_tran_4">
    <type>transmission_interface/SimpleTransmission</type>
    <joint name="finger_2_segment_joint_4">
      <hardwareInterface>hardware_interface/EffortJointInterface</hardwareInterface>
    </joint>
    <actuator name="finger_2_segment_motor_4">
      <hardwareInterface>hardware_interface/EffortJointInterface</hardwareInterface>
      <mechanicalReduction>1</mechanicalReduction>
    </actuator>
  </transmission>
  <link name="finger_2_segment_link_6">
    <inertial>
      <mass value="0.008159722222222221"/>
      <inertia ixx="5.336526331018518e-07" ixy="0.00" ixz="0.00" iyy="2.3475333839699066e-06" iyz="0.00" izz="2.8800844545717586e-06"/>
    </inertial>
    <visual>
      <origin rpy="0 0 0" xyz="0.0146875 0 0"/>
      <geometry>
        <box size="0.029375 0.028 0.0009"/>
      </geometry>
    </visual>
    <collision>
      <origin rpy="0 0 0" xyz="0.0146875 0 0"/>
      <geometry>
        <box size="0.029375 0.028 0.0009"/>
      </geometry>
    </collision>
  </link>
  <gazebo reference="finger_2_segment_link_6">
    <material>Gazebo/Orange</material>
    <mu1>0.1</mu1>
    <mu2>0.1</mu2>
    <maxVel>0.0</maxVel>
    <minDepth>0.001</minDepth>
    <!-- <kp>100</kp>
        <kd>1</kd> -->
  </gazebo>
  <!-- bending joint -->
  <joint name="finger_2_segment_joint_5" type="revolute">
    <axis rpy="0 0 0" xyz="0 1 0"/>
    <parent link="finger_2_segment_link_5"/>
    <child link="finger_2_segment_link_6"/>
    <origin rpy="0 0 0" xyz="0.029375 0 0"/>
    <limit effort="1000.0" lower="-1.0" upper="1.0" velocity="1.0"/>
    <dynamics damping="0.01" friction="0.0"/>
  </joint>
  <gazebo reference="finger_2_segment_joint_5">
    <provideFeedback>1</provideFeedback>
    <springReference>0.0</springReference>
    <implicitSpringDamper>1</implicitSpringDamper>
    <springStiffness>3.0</springStiffness>
  </gazebo>
  <!-- set transmission for gazebo ROS controllers-->
  <transmission name="finger_2_segment_tran_5">
    <type>transmission_interface/SimpleTransmission</type>
    <joint name="finger_2_segment_joint_5">
      <hardwareInterface>hardware_interface/EffortJointInterface</hardwareInterface>
    </joint>
    <actuator name="finger_2_segment_motor_5">
      <hardwareInterface>hardware_interface/EffortJointInterface</hardwareInterface>
      <mechanicalReduction>1</mechanicalReduction>
    </actuator>
  </transmission>
  <link name="finger_2_segment_link_7">
    <inertial>
      <mass value="0.008159722222222221"/>
      <inertia ixx="5.336526331018518e-07" ixy="0.00" ixz="0.00" iyy="2.3475333839699066e-06" iyz="0.00" izz="2.8800844545717586e-06"/>
    </inertial>
    <visual>
      <origin rpy="0 0 0" xyz="0.0146875 0 0"/>
      <geometry>
        <box size="0.029375 0.028 0.0009"/>
      </geometry>
    </visual>
    <collision>
      <origin rpy="0 0 0" xyz="0.0146875 0 0"/>
      <geometry>
        <box size="0.029375 0.028 0.0009"/>
      </geometry>
    </collision>
  </link>
  <gazebo reference="finger_2_segment_link_7">
    <material>Gazebo/Orange</material>
    <mu1>0.1</mu1>
    <mu2>0.1</mu2>
    <maxVel>0.0</maxVel>
    <minDepth>0.001</minDepth>
    <!-- <kp>100</kp>
        <kd>1</kd> -->
  </gazebo>
  <!-- bending joint -->
  <joint name="finger_2_segment_joint_6" type="revolute">
    <axis rpy="0 0 0" xyz="0 1 0"/>
    <parent link="finger_2_segment_link_6"/>
    <child link="finger_2_segment_link_7"/>
    <origin rpy="0 0 0" xyz="0.029375 0 0"/>
    <limit effort="1000.0" lower="-1.0" upper="1.0" velocity="1.0"/>
    <dynamics damping="0.01" friction="0.0"/>
  </joint>
  <gazebo reference="finger_2_segment_joint_6">
    <provideFeedback>1</provideFeedback>
    <springReference>0.0</springReference>
    <implicitSpringDamper>1</implicitSpringDamper>
    <springStiffness>3.0</springStiffness>
  </gazebo>
  <!-- set transmission for gazebo ROS controllers-->
  <transmission name="finger_2_segment_tran_6">
    <type>transmission_interface/SimpleTransmission</type>
    <joint name="finger_2_segment_joint_6">
      <hardwareInterface>hardware_interface/EffortJointInterface</hardwareInterface>
    </joint>
    <actuator name="finger_2_segment_motor_6">
      <hardwareInterface>hardware_interface/EffortJointInterface</hardwareInterface>
      <mechanicalReduction>1</mechanicalReduction>
    </actuator>
  </transmission>
  <link name="finger_2_segment_link_8">
    <inertial>
      <mass value="0.008159722222222221"/>
      <inertia ixx="5.336526331018518e-07" ixy="0.00" ixz="0.00" iyy="2.3475333839699066e-06" iyz="0.00" izz="2.8800844545717586e-06"/>
    </inertial>
    <visual>
      <origin rpy="0 0 0" xyz="0.0146875 0 0"/>
      <geometry>
        <box size="0.029375 0.028 0.0009"/>
      </geometry>
    </visual>
    <collision>
      <origin rpy="0 0 0" xyz="0.0146875 0 0"/>
      <geometry>
        <box size="0.029375 0.028 0.0009"/>
      </geometry>
    </collision>
  </link>
  <gazebo reference="finger_2_segment_link_8">
    <material>Gazebo/Orange</material>
    <mu1>0.1</mu1>
    <mu2>0.1</mu2>
    <maxVel>0.0</maxVel>
    <minDepth>0.001</minDepth>
    <!-- <kp>100</kp>
        <kd>1</kd> -->
  </gazebo>
  <!-- bending joint -->
  <joint name="finger_2_segment_joint_7" type="revolute">
    <axis rpy="0 0 0" xyz="0 1 0"/>
    <parent link="finger_2_segment_link_7"/>
    <child link="finger_2_segment_link_8"/>
    <origin rpy="0 0 0" xyz="0.029375 0 0"/>
    <limit effort="1000.0" lower="-1.0" upper="1.0" velocity="1.0"/>
    <dynamics damping="0.01" friction="0.0"/>
  </joint>
  <gazebo reference="finger_2_segment_joint_7">
    <provideFeedback>1</provideFeedback>
    <springReference>0.0</springReference>
    <implicitSpringDamper>1</implicitSpringDamper>
    <springStiffness>3.0</springStiffness>
  </gazebo>
  <!-- set transmission for gazebo ROS controllers-->
  <transmission name="finger_2_segment_tran_7">
    <type>transmission_interface/SimpleTransmission</type>
    <joint name="finger_2_segment_joint_7">
      <hardwareInterface>hardware_interface/EffortJointInterface</hardwareInterface>
    </joint>
    <actuator name="finger_2_segment_motor_7">
      <hardwareInterface>hardware_interface/EffortJointInterface</hardwareInterface>
      <mechanicalReduction>1</mechanicalReduction>
    </actuator>
  </transmission>
  <!-- Add the finger hook link -->
  <link name="finger_2_finger_hook_link">
    <inertial>
      <mass value="0.009722222222222222"/>
      <inertia ixx="6.358414351851852e-07" ixy="0.00" ixz="0.00" iyy="3.970563657407408e-06" iyz="0.00" izz="4.605092592592593e-06"/>
    </inertial>
    <visual>
      <origin rpy="0 0 0" xyz="0.0175 0 0"/>
      <geometry>
        <box size="0.035 0.028 0.0009"/>
      </geometry>
    </visual>
    <collision>
      <origin rpy="0 0 0" xyz="0.0175 0 0"/>
      <geometry>
        <box size="0.035 0.028 0.0009"/>
      </geometry>
    </collision>
  </link>
  <gazebo reference="finger_2_finger_hook_link">
    <material>Gazebo/Orange</material>
    <mu1>0.1</mu1>
    <mu2>0.1</mu2>
    <maxVel>0.0</maxVel>
    <minDepth>0.001</minDepth>
    <!-- <kp>100</kp>
        <kd>1</kd> -->
  </gazebo>
  <joint name="finger_2_finger_hook_joint" type="fixed">
    <parent link="finger_2_segment_link_8"/>
    <child link="finger_2_finger_hook_link"/>
    <origin rpy="0 -1.5707963267948502 0" xyz="0.029375 0 0"/>
  </joint>
  <!-- PARAMETERS TO BE SET BY HAND -->
  <!-- END OF PARAMETERS TO BE SET BY HAND -->
  <joint name="finger_3_segment_joint_0" type="revolute">
    <origin rpy="1.5707963267948966 0 0" xyz="0.129 -0.007 0"/>
    <parent link="finger_3"/>
    <child link="finger_3_segment_link_1"/>
    <axis rpy="0 0 0" xyz="0 1 0"/>
    <limit effort="1000.0" lower="-1.0" upper="1.0" velocity="1.0"/>
    <dynamics damping="0.01" friction="0.0"/>
  </joint>
  <!-- END TESTING OF BASE JOINT (rather than fixed) -->
  <link name="finger_3_segment_link_1">
    <inertial>
      <mass value="0.008159722222222221"/>
      <inertia ixx="5.336526331018518e-07" ixy="0.00" ixz="0.00" iyy="2.3475333839699066e-06" iyz="0.00" izz="2.8800844545717586e-06"/>
    </inertial>
    <visual>
      <origin rpy="0 0 0" xyz="0.0146875 0 0"/>
      <geometry>
        <box size="0.029375 0.028 0.0009"/>
      </geometry>
    </visual>
    <collision>
      <origin rpy="0 0 0" xyz="0.0146875 0 0"/>
      <geometry>
        <box size="0.029375 0.028 0.0009"/>
      </geometry>
    </collision>
  </link>
  <gazebo reference="finger_3_segment_link_1">
    <material>Gazebo/Orange</material>
    <mu1>0.1</mu1>
    <mu2>0.1</mu2>
    <maxVel>0.0</maxVel>
    <minDepth>0.001</minDepth>
    <!-- <kp>100</kp>
        <kd>1</kd> -->
  </gazebo>
  <link name="finger_3_segment_link_2">
    <inertial>
      <mass value="0.008159722222222221"/>
      <inertia ixx="5.336526331018518e-07" ixy="0.00" ixz="0.00" iyy="2.3475333839699066e-06" iyz="0.00" izz="2.8800844545717586e-06"/>
    </inertial>
    <visual>
      <origin rpy="0 0 0" xyz="0.0146875 0 0"/>
      <geometry>
        <box size="0.029375 0.028 0.0009"/>
      </geometry>
    </visual>
    <collision>
      <origin rpy="0 0 0" xyz="0.0146875 0 0"/>
      <geometry>
        <box size="0.029375 0.028 0.0009"/>
      </geometry>
    </collision>
  </link>
  <gazebo reference="finger_3_segment_link_2">
    <material>Gazebo/Orange</material>
    <mu1>0.1</mu1>
    <mu2>0.1</mu2>
    <maxVel>0.0</maxVel>
    <minDepth>0.001</minDepth>
    <!-- <kp>100</kp>
        <kd>1</kd> -->
  </gazebo>
  <!-- bending joint -->
  <joint name="finger_3_segment_joint_1" type="revolute">
    <axis rpy="0 0 0" xyz="0 1 0"/>
    <parent link="finger_3_segment_link_1"/>
    <child link="finger_3_segment_link_2"/>
    <origin rpy="0 0 0" xyz="0.029375 0 0"/>
    <limit effort="1000.0" lower="-1.0" upper="1.0" velocity="1.0"/>
    <dynamics damping="0.01" friction="0.0"/>
  </joint>
  <gazebo reference="finger_3_segment_joint_1">
    <provideFeedback>1</provideFeedback>
    <springReference>0.0</springReference>
    <implicitSpringDamper>1</implicitSpringDamper>
    <springStiffness>3.0</springStiffness>
  </gazebo>
  <!-- set transmission for gazebo ROS controllers-->
  <transmission name="finger_3_segment_tran_1">
    <type>transmission_interface/SimpleTransmission</type>
    <joint name="finger_3_segment_joint_1">
      <hardwareInterface>hardware_interface/EffortJointInterface</hardwareInterface>
    </joint>
    <actuator name="finger_3_segment_motor_1">
      <hardwareInterface>hardware_interface/EffortJointInterface</hardwareInterface>
      <mechanicalReduction>1</mechanicalReduction>
    </actuator>
  </transmission>
  <link name="finger_3_segment_link_3">
    <inertial>
      <mass value="0.008159722222222221"/>
      <inertia ixx="5.336526331018518e-07" ixy="0.00" ixz="0.00" iyy="2.3475333839699066e-06" iyz="0.00" izz="2.8800844545717586e-06"/>
    </inertial>
    <visual>
      <origin rpy="0 0 0" xyz="0.0146875 0 0"/>
      <geometry>
        <box size="0.029375 0.028 0.0009"/>
      </geometry>
    </visual>
    <collision>
      <origin rpy="0 0 0" xyz="0.0146875 0 0"/>
      <geometry>
        <box size="0.029375 0.028 0.0009"/>
      </geometry>
    </collision>
  </link>
  <gazebo reference="finger_3_segment_link_3">
    <material>Gazebo/Orange</material>
    <mu1>0.1</mu1>
    <mu2>0.1</mu2>
    <maxVel>0.0</maxVel>
    <minDepth>0.001</minDepth>
    <!-- <kp>100</kp>
        <kd>1</kd> -->
  </gazebo>
  <!-- bending joint -->
  <joint name="finger_3_segment_joint_2" type="revolute">
    <axis rpy="0 0 0" xyz="0 1 0"/>
    <parent link="finger_3_segment_link_2"/>
    <child link="finger_3_segment_link_3"/>
    <origin rpy="0 0 0" xyz="0.029375 0 0"/>
    <limit effort="1000.0" lower="-1.0" upper="1.0" velocity="1.0"/>
    <dynamics damping="0.01" friction="0.0"/>
  </joint>
  <gazebo reference="finger_3_segment_joint_2">
    <provideFeedback>1</provideFeedback>
    <springReference>0.0</springReference>
    <implicitSpringDamper>1</implicitSpringDamper>
    <springStiffness>3.0</springStiffness>
  </gazebo>
  <!-- set transmission for gazebo ROS controllers-->
  <transmission name="finger_3_segment_tran_2">
    <type>transmission_interface/SimpleTransmission</type>
    <joint name="finger_3_segment_joint_2">
      <hardwareInterface>hardware_interface/EffortJointInterface</hardwareInterface>
    </joint>
    <actuator name="finger_3_segment_motor_2">
      <hardwareInterface>hardware_interface/EffortJointInterface</hardwareInterface>
      <mechanicalReduction>1</mechanicalReduction>
    </actuator>
  </transmission>
  <link name="finger_3_segment_link_4">
    <inertial>
      <mass value="0.008159722222222221"/>
      <inertia ixx="5.336526331018518e-07" ixy="0.00" ixz="0.00" iyy="2.3475333839699066e-06" iyz="0.00" izz="2.8800844545717586e-06"/>
    </inertial>
    <visual>
      <origin rpy="0 0 0" xyz="0.0146875 0 0"/>
      <geometry>
        <box size="0.029375 0.028 0.0009"/>
      </geometry>
    </visual>
    <collision>
      <origin rpy="0 0 0" xyz="0.0146875 0 0"/>
      <geometry>
        <box size="0.029375 0.028 0.0009"/>
      </geometry>
    </collision>
  </link>
  <gazebo reference="finger_3_segment_link_4">
    <material>Gazebo/Orange</material>
    <mu1>0.1</mu1>
    <mu2>0.1</mu2>
    <maxVel>0.0</maxVel>
    <minDepth>0.001</minDepth>
    <!-- <kp>100</kp>
        <kd>1</kd> -->
  </gazebo>
  <!-- bending joint -->
  <joint name="finger_3_segment_joint_3" type="revolute">
    <axis rpy="0 0 0" xyz="0 1 0"/>
    <parent link="finger_3_segment_link_3"/>
    <child link="finger_3_segment_link_4"/>
    <origin rpy="0 0 0" xyz="0.029375 0 0"/>
    <limit effort="1000.0" lower="-1.0" upper="1.0" velocity="1.0"/>
    <dynamics damping="0.01" friction="0.0"/>
  </joint>
  <gazebo reference="finger_3_segment_joint_3">
    <provideFeedback>1</provideFeedback>
    <springReference>0.0</springReference>
    <implicitSpringDamper>1</implicitSpringDamper>
    <springStiffness>3.0</springStiffness>
  </gazebo>
  <!-- set transmission for gazebo ROS controllers-->
  <transmission name="finger_3_segment_tran_3">
    <type>transmission_interface/SimpleTransmission</type>
    <joint name="finger_3_segment_joint_3">
      <hardwareInterface>hardware_interface/EffortJointInterface</hardwareInterface>
    </joint>
    <actuator name="finger_3_segment_motor_3">
      <hardwareInterface>hardware_interface/EffortJointInterface</hardwareInterface>
      <mechanicalReduction>1</mechanicalReduction>
    </actuator>
  </transmission>
  <link name="finger_3_segment_link_5">
    <inertial>
      <mass value="0.008159722222222221"/>
      <inertia ixx="5.336526331018518e-07" ixy="0.00" ixz="0.00" iyy="2.3475333839699066e-06" iyz="0.00" izz="2.8800844545717586e-06"/>
    </inertial>
    <visual>
      <origin rpy="0 0 0" xyz="0.0146875 0 0"/>
      <geometry>
        <box size="0.029375 0.028 0.0009"/>
      </geometry>
    </visual>
    <collision>
      <origin rpy="0 0 0" xyz="0.0146875 0 0"/>
      <geometry>
        <box size="0.029375 0.028 0.0009"/>
      </geometry>
    </collision>
  </link>
  <gazebo reference="finger_3_segment_link_5">
    <material>Gazebo/Orange</material>
    <mu1>0.1</mu1>
    <mu2>0.1</mu2>
    <maxVel>0.0</maxVel>
    <minDepth>0.001</minDepth>
    <!-- <kp>100</kp>
        <kd>1</kd> -->
  </gazebo>
  <!-- bending joint -->
  <joint name="finger_3_segment_joint_4" type="revolute">
    <axis rpy="0 0 0" xyz="0 1 0"/>
    <parent link="finger_3_segment_link_4"/>
    <child link="finger_3_segment_link_5"/>
    <origin rpy="0 0 0" xyz="0.029375 0 0"/>
    <limit effort="1000.0" lower="-1.0" upper="1.0" velocity="1.0"/>
    <dynamics damping="0.01" friction="0.0"/>
  </joint>
  <gazebo reference="finger_3_segment_joint_4">
    <provideFeedback>1</provideFeedback>
    <springReference>0.0</springReference>
    <implicitSpringDamper>1</implicitSpringDamper>
    <springStiffness>3.0</springStiffness>
  </gazebo>
  <!-- set transmission for gazebo ROS controllers-->
  <transmission name="finger_3_segment_tran_4">
    <type>transmission_interface/SimpleTransmission</type>
    <joint name="finger_3_segment_joint_4">
      <hardwareInterface>hardware_interface/EffortJointInterface</hardwareInterface>
    </joint>
    <actuator name="finger_3_segment_motor_4">
      <hardwareInterface>hardware_interface/EffortJointInterface</hardwareInterface>
      <mechanicalReduction>1</mechanicalReduction>
    </actuator>
  </transmission>
  <link name="finger_3_segment_link_6">
    <inertial>
      <mass value="0.008159722222222221"/>
      <inertia ixx="5.336526331018518e-07" ixy="0.00" ixz="0.00" iyy="2.3475333839699066e-06" iyz="0.00" izz="2.8800844545717586e-06"/>
    </inertial>
    <visual>
      <origin rpy="0 0 0" xyz="0.0146875 0 0"/>
      <geometry>
        <box size="0.029375 0.028 0.0009"/>
      </geometry>
    </visual>
    <collision>
      <origin rpy="0 0 0" xyz="0.0146875 0 0"/>
      <geometry>
        <box size="0.029375 0.028 0.0009"/>
      </geometry>
    </collision>
  </link>
  <gazebo reference="finger_3_segment_link_6">
    <material>Gazebo/Orange</material>
    <mu1>0.1</mu1>
    <mu2>0.1</mu2>
    <maxVel>0.0</maxVel>
    <minDepth>0.001</minDepth>
    <!-- <kp>100</kp>
        <kd>1</kd> -->
  </gazebo>
  <!-- bending joint -->
  <joint name="finger_3_segment_joint_5" type="revolute">
    <axis rpy="0 0 0" xyz="0 1 0"/>
    <parent link="finger_3_segment_link_5"/>
    <child link="finger_3_segment_link_6"/>
    <origin rpy="0 0 0" xyz="0.029375 0 0"/>
    <limit effort="1000.0" lower="-1.0" upper="1.0" velocity="1.0"/>
    <dynamics damping="0.01" friction="0.0"/>
  </joint>
  <gazebo reference="finger_3_segment_joint_5">
    <provideFeedback>1</provideFeedback>
    <springReference>0.0</springReference>
    <implicitSpringDamper>1</implicitSpringDamper>
    <springStiffness>3.0</springStiffness>
  </gazebo>
  <!-- set transmission for gazebo ROS controllers-->
  <transmission name="finger_3_segment_tran_5">
    <type>transmission_interface/SimpleTransmission</type>
    <joint name="finger_3_segment_joint_5">
      <hardwareInterface>hardware_interface/EffortJointInterface</hardwareInterface>
    </joint>
    <actuator name="finger_3_segment_motor_5">
      <hardwareInterface>hardware_interface/EffortJointInterface</hardwareInterface>
      <mechanicalReduction>1</mechanicalReduction>
    </actuator>
  </transmission>
  <link name="finger_3_segment_link_7">
    <inertial>
      <mass value="0.008159722222222221"/>
      <inertia ixx="5.336526331018518e-07" ixy="0.00" ixz="0.00" iyy="2.3475333839699066e-06" iyz="0.00" izz="2.8800844545717586e-06"/>
    </inertial>
    <visual>
      <origin rpy="0 0 0" xyz="0.0146875 0 0"/>
      <geometry>
        <box size="0.029375 0.028 0.0009"/>
      </geometry>
    </visual>
    <collision>
      <origin rpy="0 0 0" xyz="0.0146875 0 0"/>
      <geometry>
        <box size="0.029375 0.028 0.0009"/>
      </geometry>
    </collision>
  </link>
  <gazebo reference="finger_3_segment_link_7">
    <material>Gazebo/Orange</material>
    <mu1>0.1</mu1>
    <mu2>0.1</mu2>
    <maxVel>0.0</maxVel>
    <minDepth>0.001</minDepth>
    <!-- <kp>100</kp>
        <kd>1</kd> -->
  </gazebo>
  <!-- bending joint -->
  <joint name="finger_3_segment_joint_6" type="revolute">
    <axis rpy="0 0 0" xyz="0 1 0"/>
    <parent link="finger_3_segment_link_6"/>
    <child link="finger_3_segment_link_7"/>
    <origin rpy="0 0 0" xyz="0.029375 0 0"/>
    <limit effort="1000.0" lower="-1.0" upper="1.0" velocity="1.0"/>
    <dynamics damping="0.01" friction="0.0"/>
  </joint>
  <gazebo reference="finger_3_segment_joint_6">
    <provideFeedback>1</provideFeedback>
    <springReference>0.0</springReference>
    <implicitSpringDamper>1</implicitSpringDamper>
    <springStiffness>3.0</springStiffness>
  </gazebo>
  <!-- set transmission for gazebo ROS controllers-->
  <transmission name="finger_3_segment_tran_6">
    <type>transmission_interface/SimpleTransmission</type>
    <joint name="finger_3_segment_joint_6">
      <hardwareInterface>hardware_interface/EffortJointInterface</hardwareInterface>
    </joint>
    <actuator name="finger_3_segment_motor_6">
      <hardwareInterface>hardware_interface/EffortJointInterface</hardwareInterface>
      <mechanicalReduction>1</mechanicalReduction>
    </actuator>
  </transmission>
  <link name="finger_3_segment_link_8">
    <inertial>
      <mass value="0.008159722222222221"/>
      <inertia ixx="5.336526331018518e-07" ixy="0.00" ixz="0.00" iyy="2.3475333839699066e-06" iyz="0.00" izz="2.8800844545717586e-06"/>
    </inertial>
    <visual>
      <origin rpy="0 0 0" xyz="0.0146875 0 0"/>
      <geometry>
        <box size="0.029375 0.028 0.0009"/>
      </geometry>
    </visual>
    <collision>
      <origin rpy="0 0 0" xyz="0.0146875 0 0"/>
      <geometry>
        <box size="0.029375 0.028 0.0009"/>
      </geometry>
    </collision>
  </link>
  <gazebo reference="finger_3_segment_link_8">
    <material>Gazebo/Orange</material>
    <mu1>0.1</mu1>
    <mu2>0.1</mu2>
    <maxVel>0.0</maxVel>
    <minDepth>0.001</minDepth>
    <!-- <kp>100</kp>
        <kd>1</kd> -->
  </gazebo>
  <!-- bending joint -->
  <joint name="finger_3_segment_joint_7" type="revolute">
    <axis rpy="0 0 0" xyz="0 1 0"/>
    <parent link="finger_3_segment_link_7"/>
    <child link="finger_3_segment_link_8"/>
    <origin rpy="0 0 0" xyz="0.029375 0 0"/>
    <limit effort="1000.0" lower="-1.0" upper="1.0" velocity="1.0"/>
    <dynamics damping="0.01" friction="0.0"/>
  </joint>
  <gazebo reference="finger_3_segment_joint_7">
    <provideFeedback>1</provideFeedback>
    <springReference>0.0</springReference>
    <implicitSpringDamper>1</implicitSpringDamper>
    <springStiffness>3.0</springStiffness>
  </gazebo>
  <!-- set transmission for gazebo ROS controllers-->
  <transmission name="finger_3_segment_tran_7">
    <type>transmission_interface/SimpleTransmission</type>
    <joint name="finger_3_segment_joint_7">
      <hardwareInterface>hardware_interface/EffortJointInterface</hardwareInterface>
    </joint>
    <actuator name="finger_3_segment_motor_7">
      <hardwareInterface>hardware_interface/EffortJointInterface</hardwareInterface>
      <mechanicalReduction>1</mechanicalReduction>
    </actuator>
  </transmission>
  <!-- Add the finger hook link -->
  <link name="finger_3_finger_hook_link">
    <inertial>
      <mass value="0.009722222222222222"/>
      <inertia ixx="6.358414351851852e-07" ixy="0.00" ixz="0.00" iyy="3.970563657407408e-06" iyz="0.00" izz="4.605092592592593e-06"/>
    </inertial>
    <visual>
      <origin rpy="0 0 0" xyz="0.0175 0 0"/>
      <geometry>
        <box size="0.035 0.028 0.0009"/>
      </geometry>
    </visual>
    <collision>
      <origin rpy="0 0 0" xyz="0.0175 0 0"/>
      <geometry>
        <box size="0.035 0.028 0.0009"/>
      </geometry>
    </collision>
  </link>
  <gazebo reference="finger_3_finger_hook_link">
    <material>Gazebo/Orange</material>
    <mu1>0.1</mu1>
    <mu2>0.1</mu2>
    <maxVel>0.0</maxVel>
    <minDepth>0.001</minDepth>
    <!-- <kp>100</kp>
        <kd>1</kd> -->
  </gazebo>
  <joint name="finger_3_finger_hook_joint" type="fixed">
    <parent link="finger_3_segment_link_8"/>
    <child link="finger_3_finger_hook_link"/>
    <origin rpy="0 -1.5707963267948502 0" xyz="0.029375 0 0"/>
  </joint>
  <gazebo>
    <plugin filename="libfinger_controller_plugin.so" name="finger_controller_plugin"/>
  </gazebo>
  <!-- connect the panda to the ground -->
  <link name="world"/>
  <joint name="world_to_base" type="fixed">
    <origin rpy="0 0 0" xyz="0 0 0"/>
    <parent link="world"/>
    <child link="panda_link0"/>
  </joint>
  <!-- connect the gripper to the panda -->
  <!-- TODO verify these values -->
  <joint name="panda_to_eef_base_joint" type="fixed">
    <origin rpy="0 0 -0.7853981633974483" xyz="0 0 0.25"/>
    <parent link="panda_link7"/>
    <child link="gripper_base_link"/>
  </joint>
  <gazebo>
    <plugin filename="libreset_joints_plugin.so" name="reset_joints_plugin"/>
  </gazebo>
</robot>
